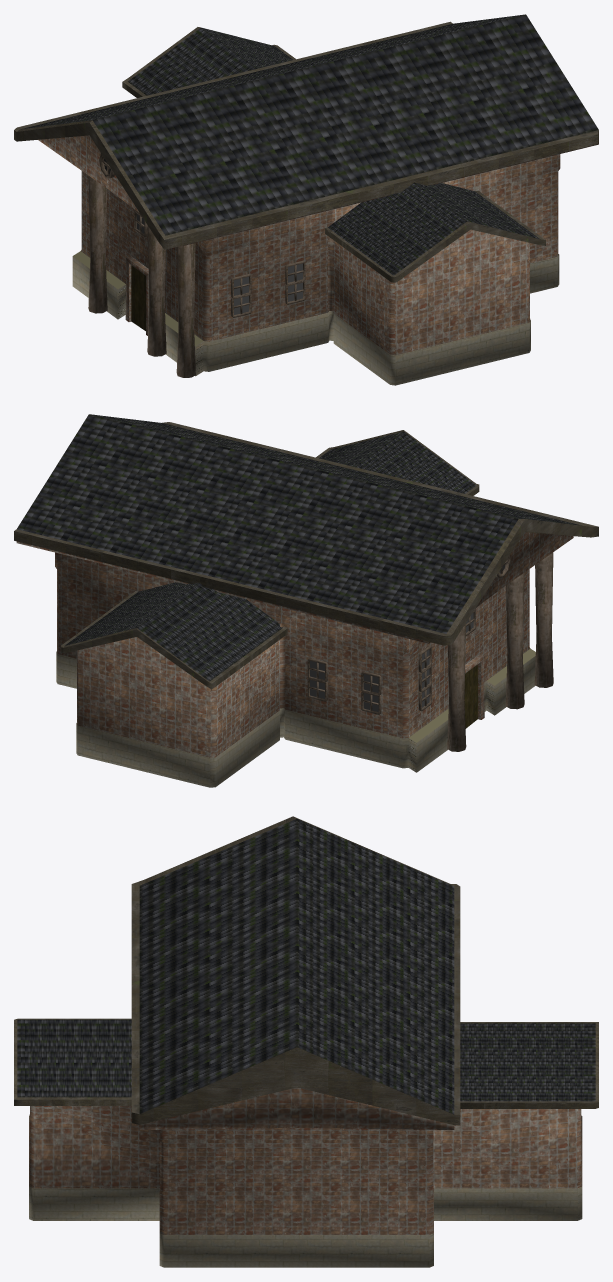
Rendered from Town_hall.fbx.
3 renders of one model, top to bottom at view 1: azimuth 30°, elevation 25°; view 2: azimuth 150°, elevation 25°; view 3: azimuth 270°, elevation 25°, orthographic. The views are drawn at different scales.
Visible parts, largest first — view 1: Cube.042, Cube.023, Cube.015, Cube.028, Cube.027, Cube.026, Cylinder.002, Cylinder.005, Cylinder.003, Cube.018, Cube; view 2: Cube.042, Cube.023, Cube.015, Cube.027, Cube.028, Cube.026, Cylinder.003, Cylinder.002, Cylinder.005, Cube.017, Cube.018, Cube; view 3: Cube.042, Cube.023, Cube.015, Cube.027, Cube.028, Cube.026.
Boxes of the visible parts, x1,y1,x2,y2 form: Cube.042: (14,14,598,249); Cube.023: (81,154,560,355); Cube.015: (72,250,559,385); Cube.028: (325,182,545,282); Cube.027: (122,27,295,97); Cube.026: (38,135,598,245); Cylinder.002: (176,243,195,377); Cylinder.005: (88,176,107,313); Cylinder.003: (147,225,166,356); Cube.018: (131,265,145,330); Cube: (125,256,148,335); Cube.042: (14,414,598,645); Cube.023: (55,552,529,757); Cube.015: (56,647,535,787); Cube.027: (61,582,287,689); Cube.028: (316,430,479,495); Cube.026: (16,532,573,643); Cylinder.003: (505,573,524,709); Cylinder.002: (534,552,553,687); Cylinder.005: (447,623,466,751); Cube.017: (418,645,431,711); Cube.018: (464,665,477,728); Cube: (464,654,484,719); Cube.042: (131,816,460,1125); Cube.023: (29,1106,582,1234); Cube.015: (29,1115,582,1267); Cube.027: (460,1022,598,1108); Cube.028: (14,1018,131,1105); Cube.026: (139,1087,454,1129).
Bounding box in the file's own units: 998 × 482 × 1069.
Materials: 51 (34 with a texture image).
